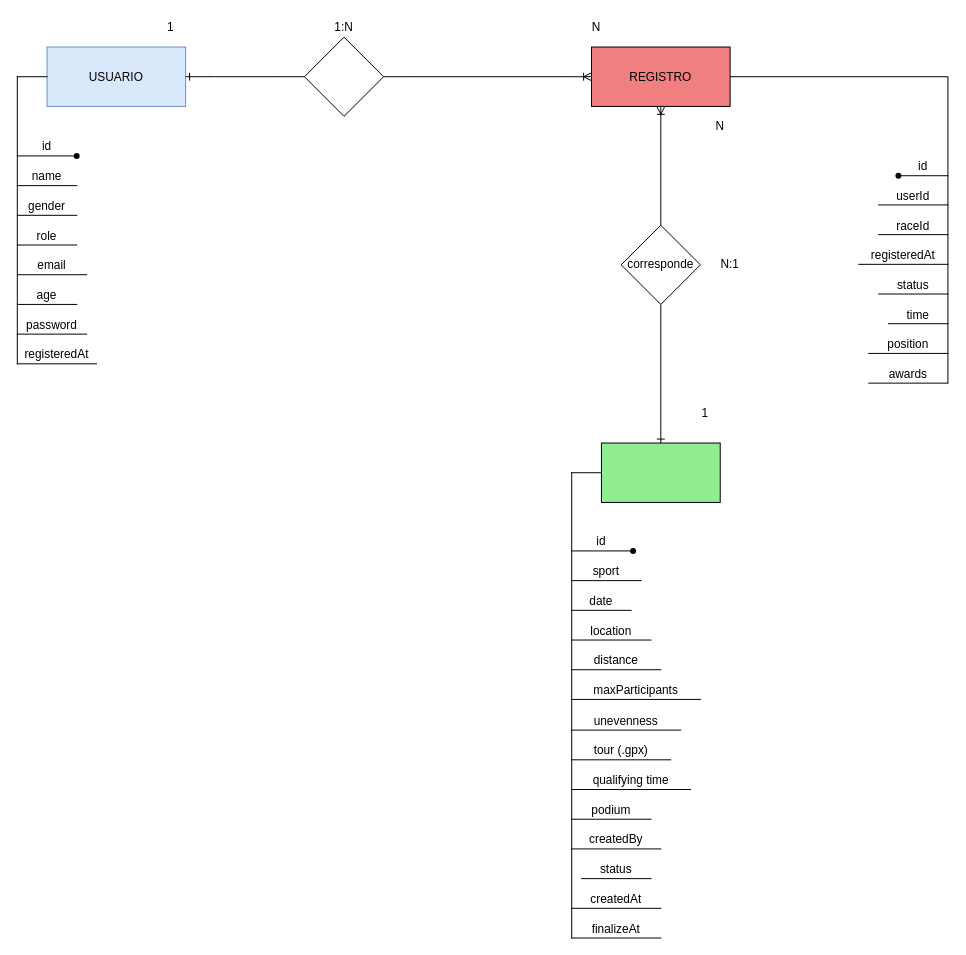
Some shapes in this 966 by 955 pixel diagram are drawn without their labels. The box of each missing label's shape, as (x1, y1, x2, y2) in pixels:
CARRERA: (600, 442, 720, 502)
se inscribe en: (303, 36, 384, 116)
